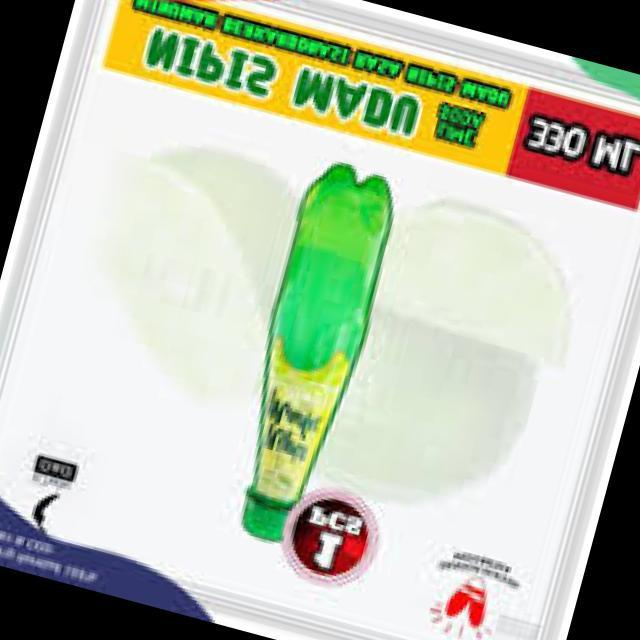good: (194, 150, 432, 574)
